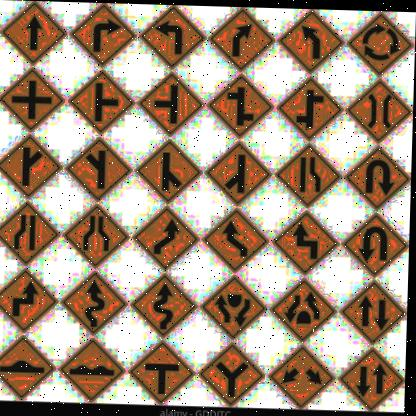U-turn: (338, 210, 411, 279), (344, 145, 413, 205)
